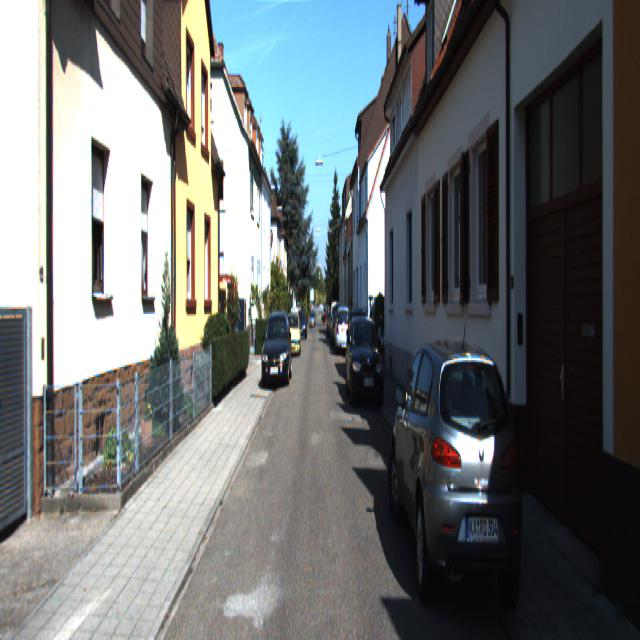Car: (389, 326, 528, 635), (345, 309, 383, 408), (261, 307, 291, 391), (334, 304, 352, 356), (285, 311, 300, 358)
